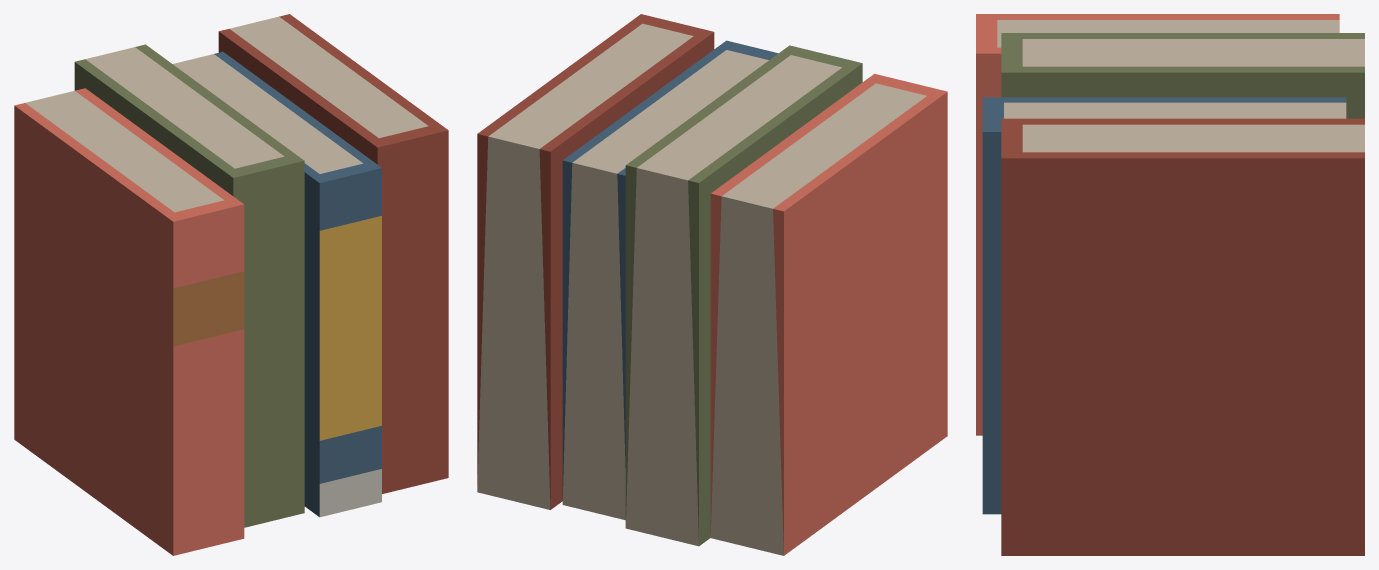
File: SM_Prop_Book_Group_02.fbx
3 views of the same model, side by side, from view 1: azimuth 30°, elevation 25°; view 2: azimuth 150°, elevation 25°; view 3: azimuth 270°, elevation 25° (orthographic). The views are drawn at different scales.
Parts seen in each view (by area): view 1: SM_Prop_Book_Group_02; view 2: SM_Prop_Book_Group_02; view 3: SM_Prop_Book_Group_02.
Boxes of the visible parts, x1,y1,x2,y2 form: SM_Prop_Book_Group_02: (14, 14, 448, 555); SM_Prop_Book_Group_02: (477, 14, 947, 555); SM_Prop_Book_Group_02: (976, 14, 1364, 555).
Bounding box in the file's own units: 29.85 × 35.09 × 30.67.
